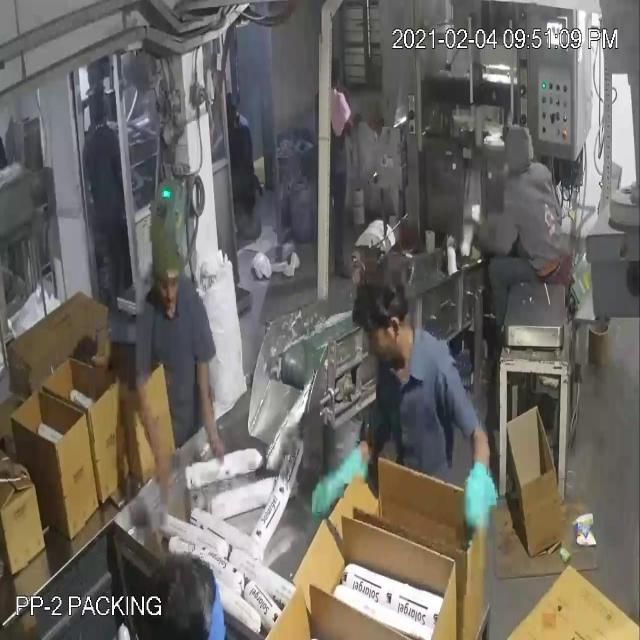No_Gloves: (40, 84, 481, 496)
